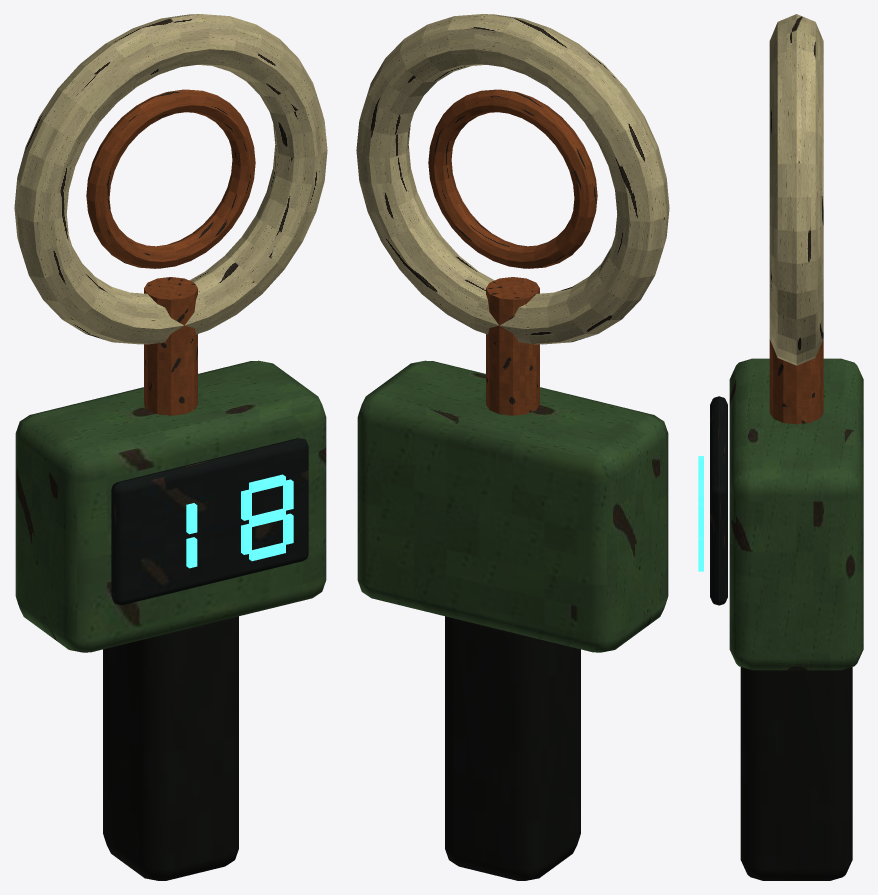
The model's file is eq-scraptracker.glb.
3 views of the same model, side by side, from view 1: azimuth 30°, elevation 25°; view 2: azimuth 150°, elevation 25°; view 3: azimuth 270°, elevation 25° (orthographic).
Parts seen in each view (by area): view 1: Display body, Antenna, Handle, Display, Inner coil, Sensor stalk; view 2: Display body, Antenna, Handle, Inner coil, Sensor stalk; view 3: Display body, Handle, Antenna, Display, Sensor stalk.
Part boxes in pixels (x1=…): Display body: x1=15, y1=360, x2=326, y2=652; Antenna: x1=14, y1=14, x2=327, y2=344; Handle: x1=103, y1=616, x2=238, y2=880; Display: x1=111, y1=438, x2=308, y2=604; Inner coil: x1=86, y1=89, x2=255, y2=268; Sensor stalk: x1=144, y1=277, x2=197, y2=415; Display body: x1=357, y1=360, x2=668, y2=652; Antenna: x1=356, y1=14, x2=669, y2=344; Handle: x1=445, y1=616, x2=580, y2=880; Inner coil: x1=428, y1=89, x2=597, y2=268; Sensor stalk: x1=486, y1=277, x2=539, y2=415; Display body: x1=729, y1=358, x2=863, y2=670; Handle: x1=740, y1=667, x2=852, y2=880; Antenna: x1=769, y1=14, x2=823, y2=365; Display: x1=710, y1=396, x2=727, y2=605; Sensor stalk: x1=769, y1=339, x2=823, y2=424.
Bounding box in the file's own units: 0.236 × 0.618 × 0.111.
Materials: 6 (6 with a texture image).
